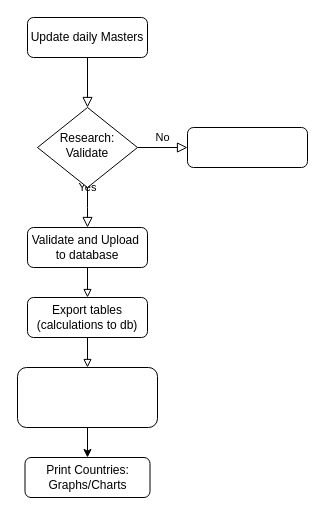
This 325x515 diagram has some shape labels left out. The shapes that lost their labels are listed below. From the top down, each one's box as (x1, y1, x2, y2) in pixels, then its label:
(186, 126, 308, 168): yesterday data will be used
(16, 366, 158, 428): Print Regionals: Graphs/Charts (Regional Calculations to db)
